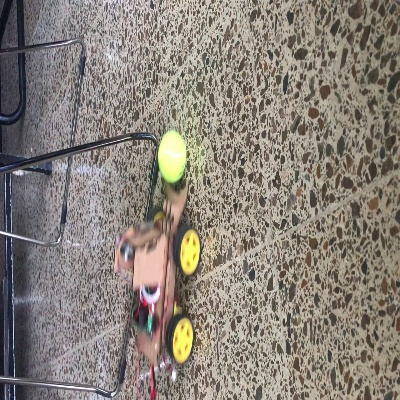Ball: (159, 133, 186, 183)
Robot: (114, 181, 201, 369)
